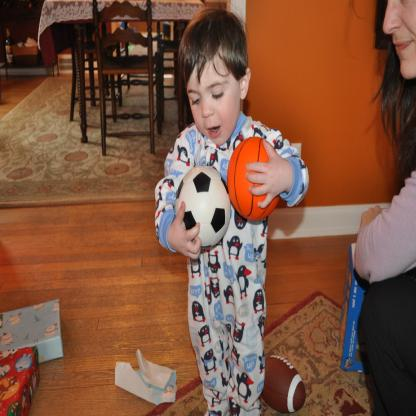ball: (173, 163, 233, 253), (226, 134, 284, 224), (259, 352, 309, 416)
